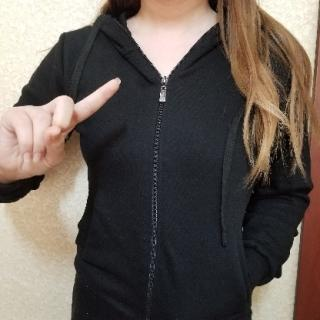BAA: (0, 73, 125, 186)
